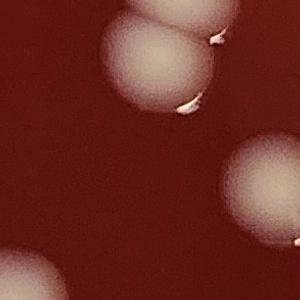colony: (84, 5, 222, 113), (215, 124, 300, 257), (119, 0, 244, 49), (0, 236, 76, 300)
